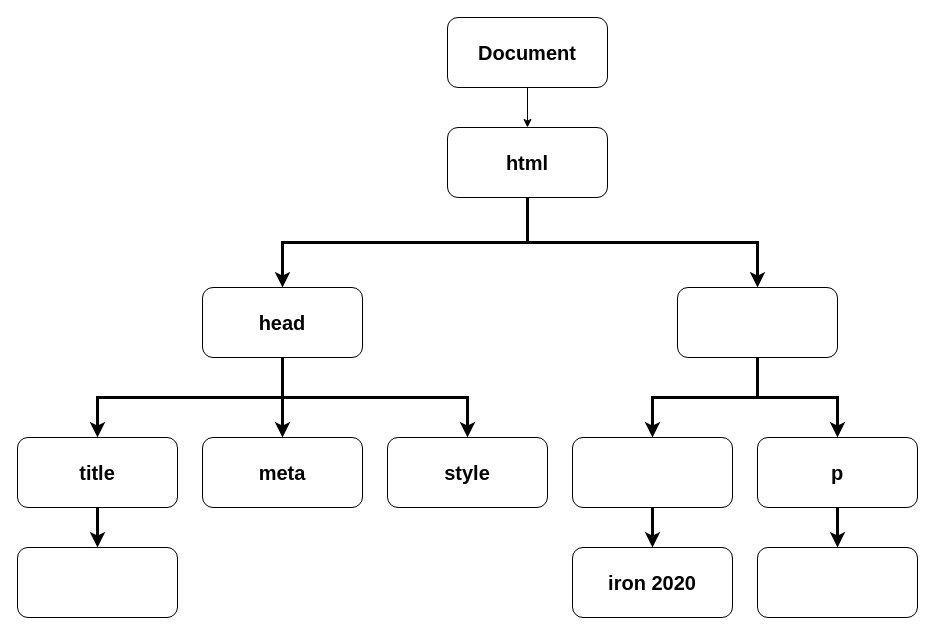
Some shapes in this 935 by 635 pixel diagram are drawn without their labels. Here are the shapes that lost their labels. From the top down, the centre of each, then its label:
At point 757,322: "body".
At point 652,472: "h1".
At point 97,582: "ithelp ironman".
At point 837,582: "join us".
